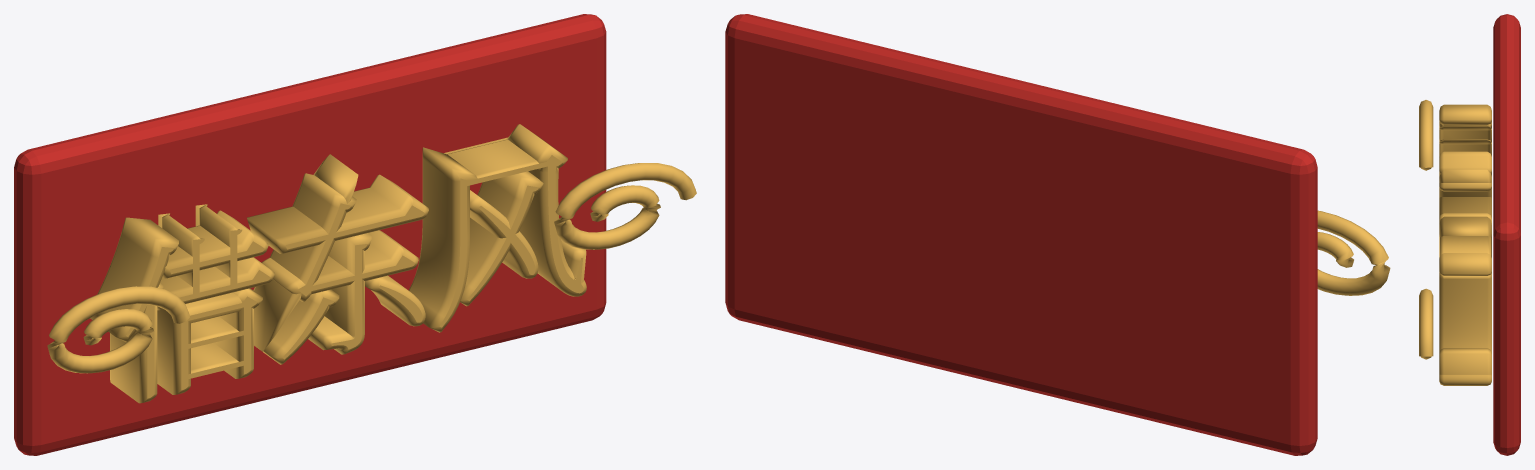
Rendered from word-east-wind.glb.
3 views of the same model, side by side, from view 1: azimuth 30°, elevation 25°; view 2: azimuth 150°, elevation 25°; view 3: azimuth 270°, elevation 25° (orthographic). The views are drawn at different scales.
Parts seen in each view (by area): view 1: word-east-wind; view 2: word-east-wind; view 3: word-east-wind.
Boxes of the visible parts, x1=… form: word-east-wind: x1=14, y1=14, x2=696, y2=455; word-east-wind: x1=725, y1=14, x2=1390, y2=455; word-east-wind: x1=1419, y1=14, x2=1520, y2=455.
Size of the model in its own units: 1.45 by 0.6487 by 0.258.
